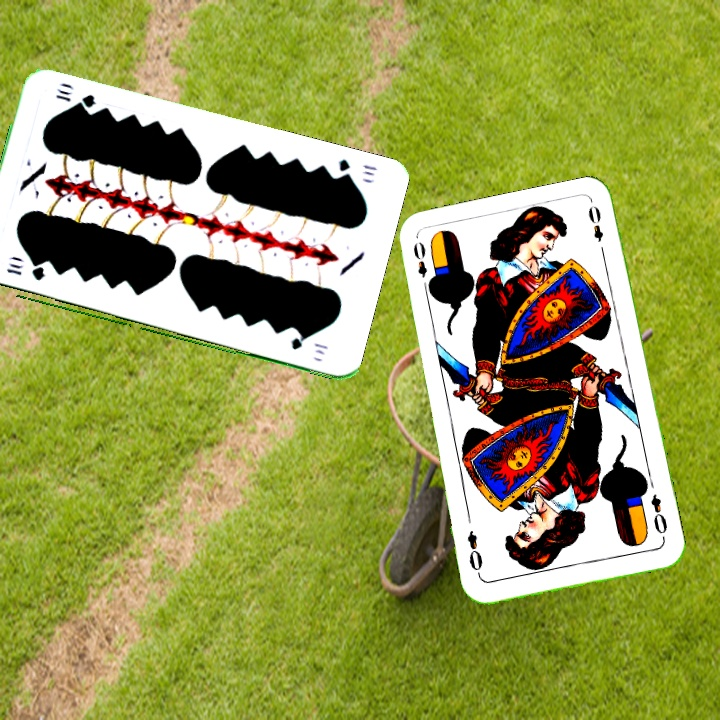EO: (409, 238, 433, 295), (647, 490, 670, 543)
G10: (332, 155, 380, 183), (2, 259, 47, 283)
